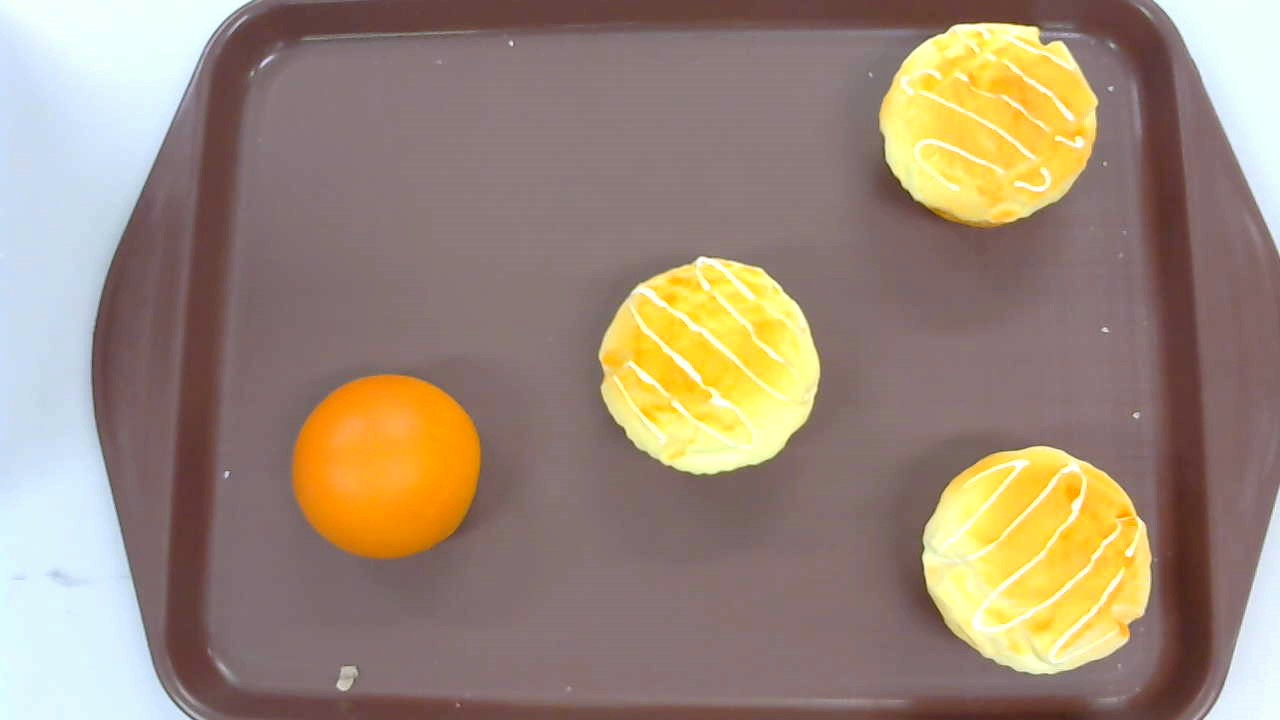bun: (291, 374, 479, 561)
cupcake: (922, 443, 1153, 676), (597, 256, 820, 477), (879, 23, 1099, 229)
